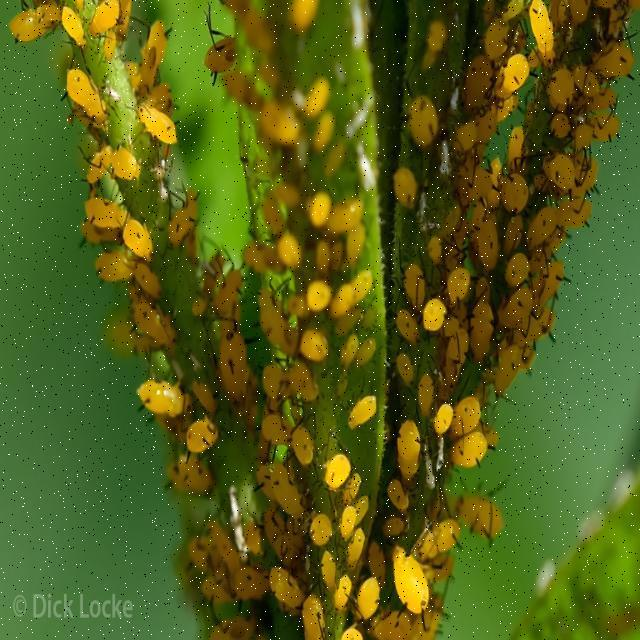Aphids: (158, 446, 242, 509), (421, 367, 467, 476), (415, 494, 469, 584), (540, 122, 596, 207), (121, 293, 192, 358), (52, 60, 126, 119), (382, 545, 432, 629), (536, 258, 576, 363), (202, 275, 259, 344), (400, 92, 456, 157), (170, 379, 220, 451), (409, 196, 453, 274), (494, 331, 528, 427), (346, 389, 395, 454), (140, 102, 192, 162), (380, 301, 432, 360), (380, 470, 424, 538), (521, 11, 566, 77), (471, 283, 507, 365), (472, 211, 515, 279), (446, 379, 494, 439), (225, 334, 259, 415), (104, 130, 149, 191), (396, 255, 434, 327), (142, 373, 197, 422), (460, 497, 508, 551), (86, 240, 156, 277), (302, 170, 341, 233), (175, 199, 220, 253), (143, 12, 178, 78), (496, 44, 532, 107), (282, 351, 316, 416), (272, 234, 312, 288), (312, 451, 357, 499), (452, 433, 491, 485), (393, 157, 424, 222), (417, 287, 454, 339), (123, 218, 159, 271), (312, 274, 346, 330), (390, 413, 418, 476), (501, 116, 529, 179), (391, 350, 433, 391), (285, 431, 322, 476), (452, 112, 480, 167), (446, 260, 480, 305), (527, 198, 558, 241), (91, 6, 125, 40), (487, 147, 505, 196)
